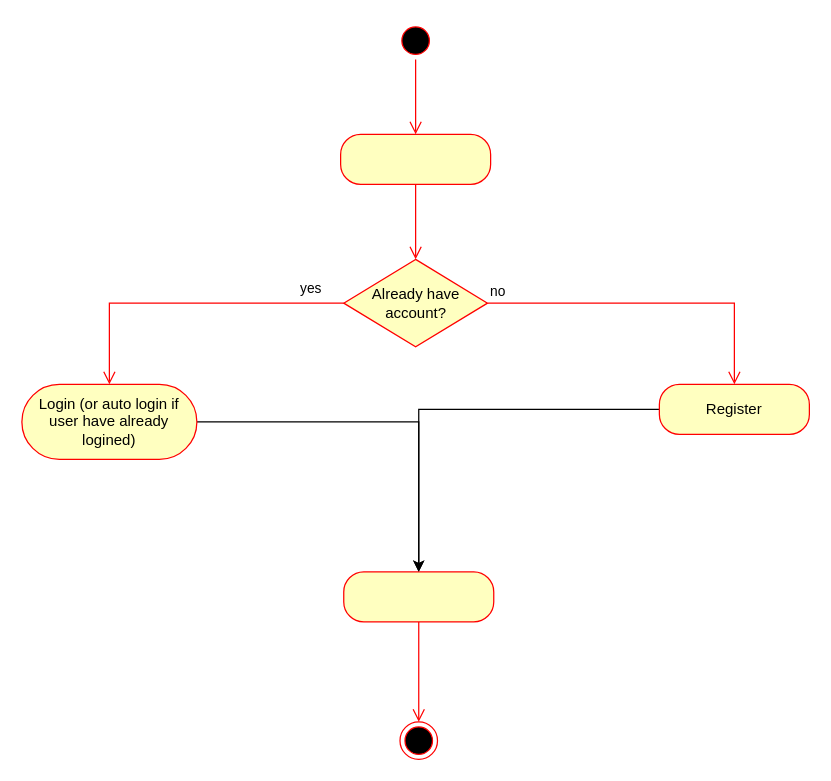
This 831x781 diagram has some shape labels left out. Each missing label, with the centre of its shape:
Open app: pixel 415 158
Watch Film: pixel 418 596
